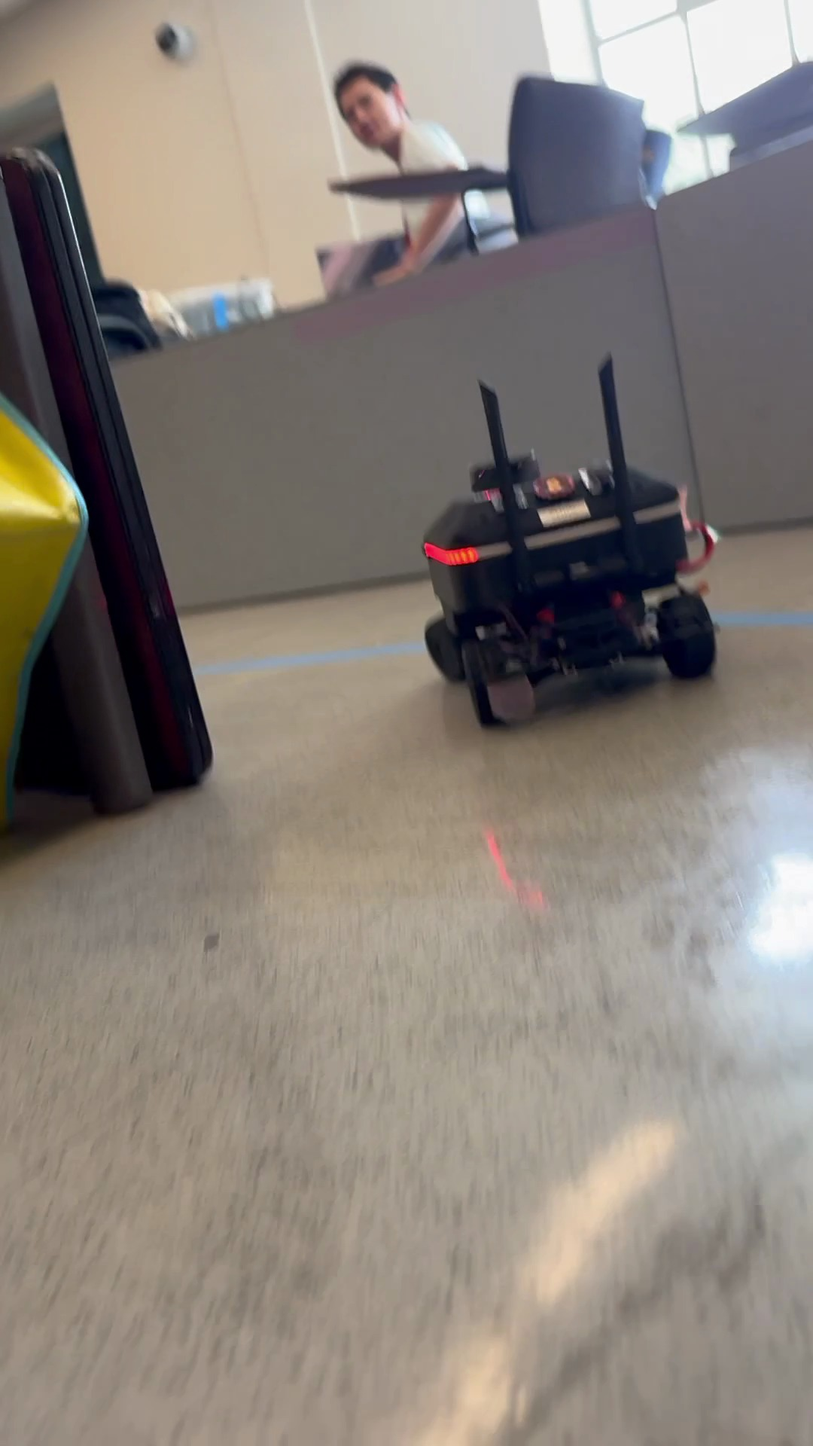racecar: (421, 361, 716, 728)
